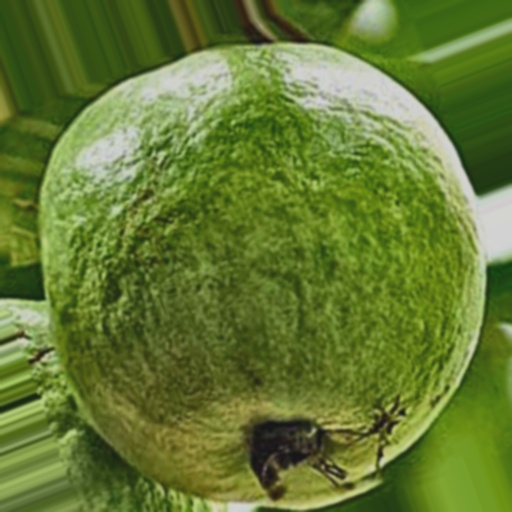guava: (65, 56, 442, 512)
